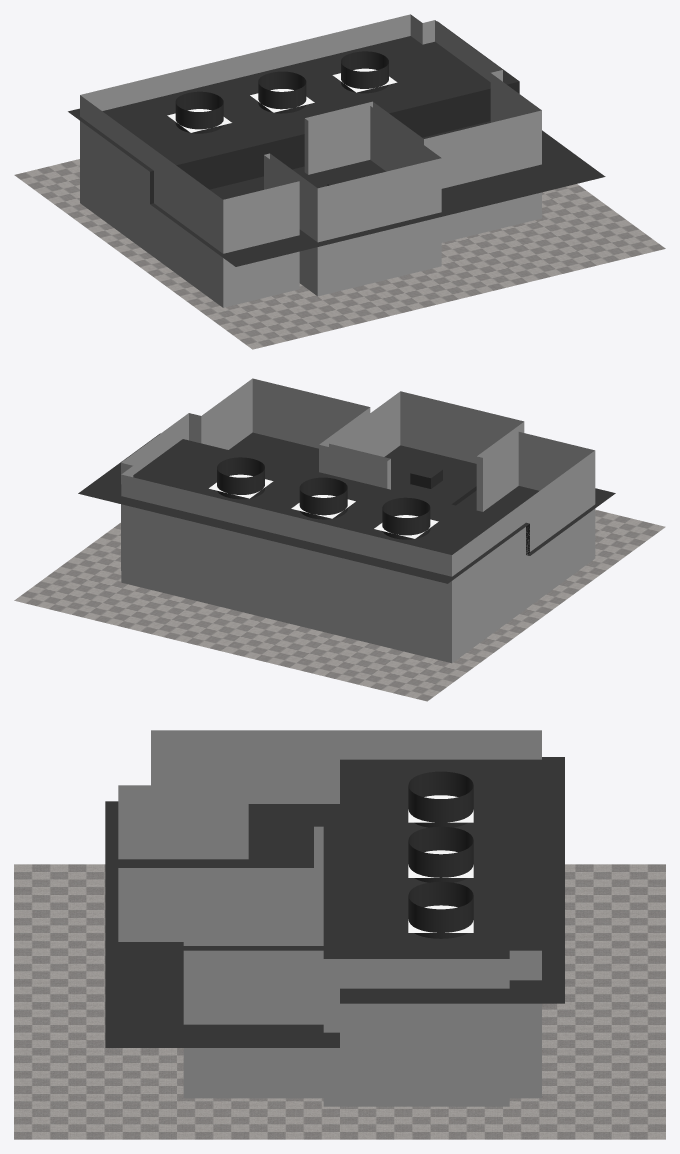
File: museum.glb
3 renders of one model, top to bottom at view 1: azimuth 30°, elevation 25°; view 2: azimuth 150°, elevation 25°; view 3: azimuth 270°, elevation 25°, orthographic. The views are drawn at different scales.
Parts seen in each view (by area): view 1: Wall, Ceiling, Floor; view 2: Wall, Ceiling, Floor; view 3: Wall, Floor, Ceiling.
Boxes of the visible parts, box(x1,y1,x2,y2) form: Wall: box(80, 14, 541, 307); Ceiling: box(68, 21, 605, 266); Floor: box(14, 159, 665, 349); Wall: box(121, 378, 595, 663); Ceiling: box(78, 432, 615, 583); Floor: box(14, 509, 665, 701); Wall: box(118, 730, 541, 1106); Floor: box(14, 864, 665, 1139); Ceiling: box(105, 757, 564, 1047).
Size of what is drawn, in the model's own units: 20 by 5 by 20.
5 materials, 1 textured.
